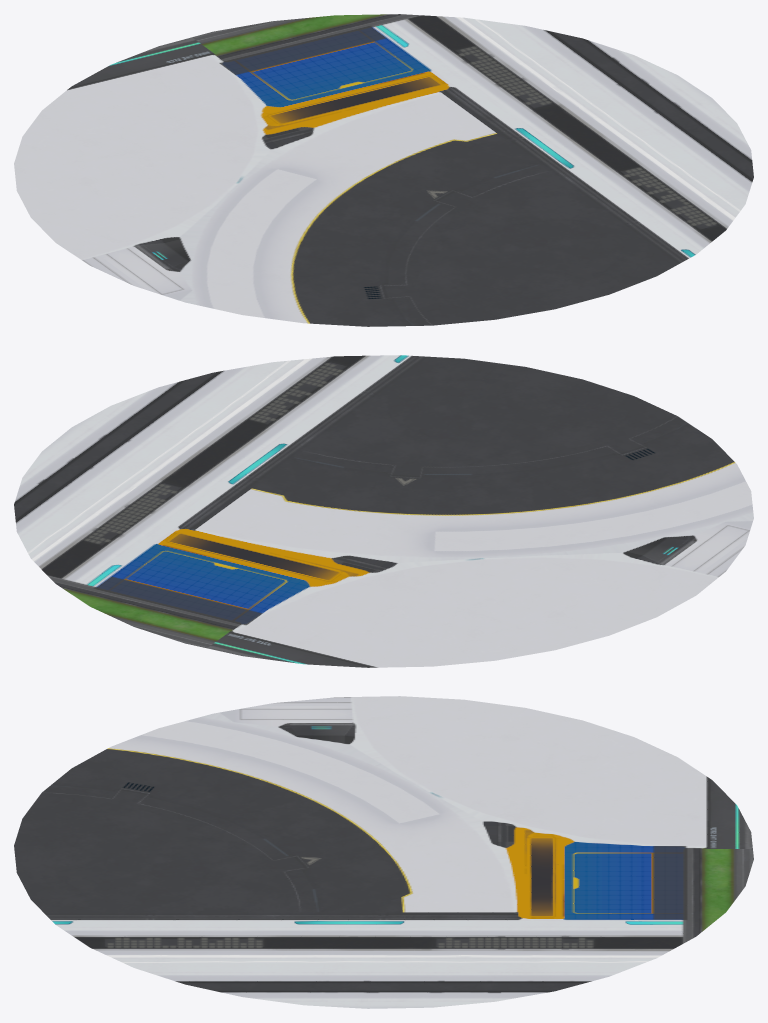
File: mesh_1002_syq_sd005c.FBX
3 renders of one model, top to bottom at view 1: azimuth 30°, elevation 25°; view 2: azimuth 150°, elevation 25°; view 3: azimuth 270°, elevation 25°, orthographic.
Visible parts, largest first — view 1: mesh_1002_syq_sd005c; view 2: mesh_1002_syq_sd005c; view 3: mesh_1002_syq_sd005c.
Part boxes in pixels (x1,y1,x2,y2): mesh_1002_syq_sd005c: (14, 14, 753, 326); mesh_1002_syq_sd005c: (14, 355, 753, 667); mesh_1002_syq_sd005c: (14, 696, 753, 1008).
Bounding box in the file's own units: 5518 × 0.000488 × 5518.
